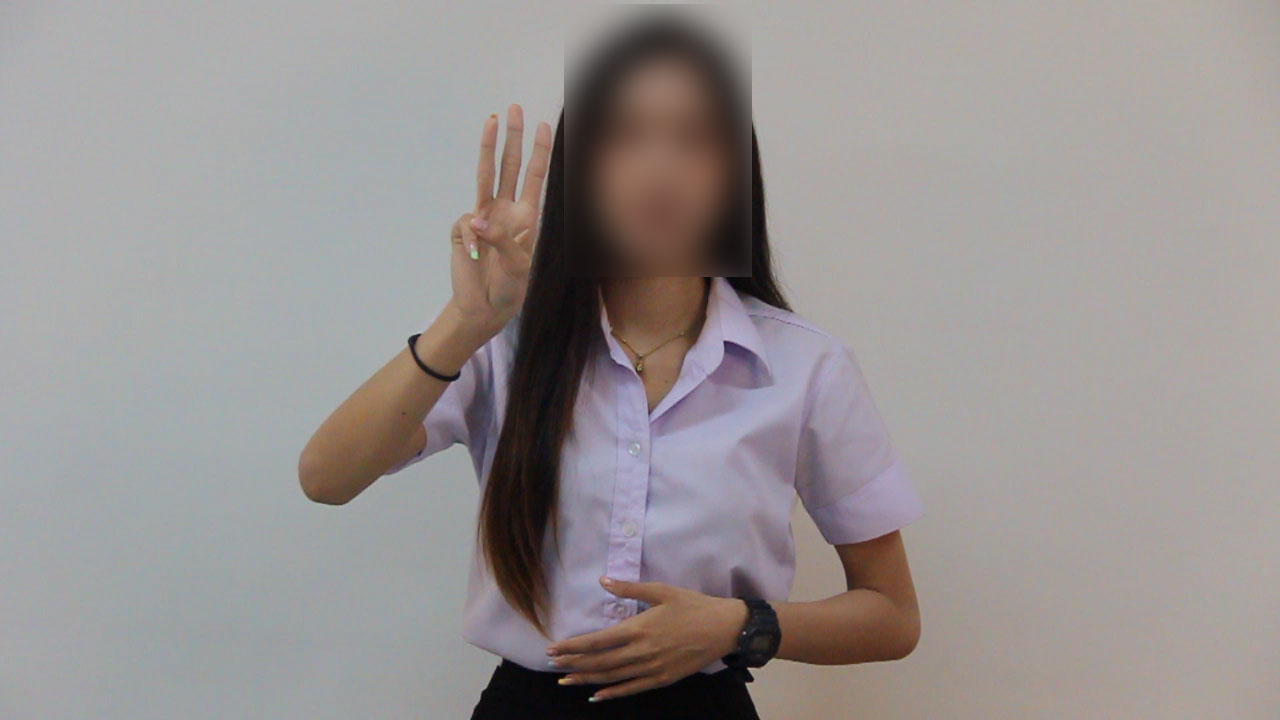wor: (438, 95, 558, 334)
